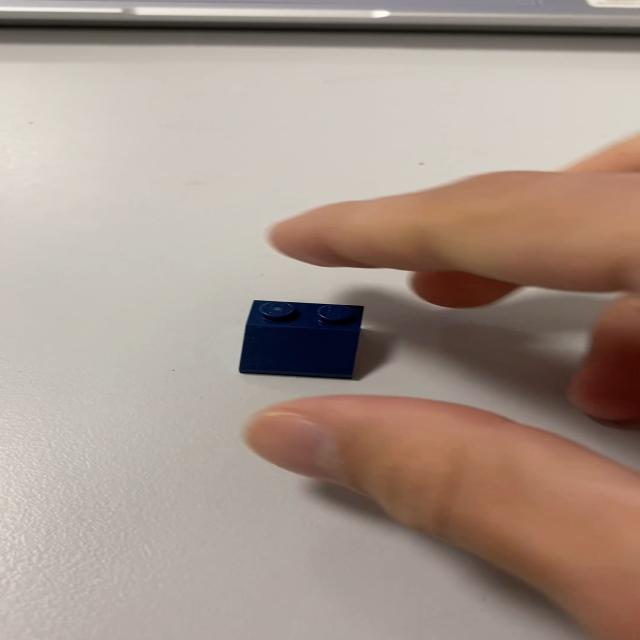P2x2x1: (236, 298, 365, 379)
